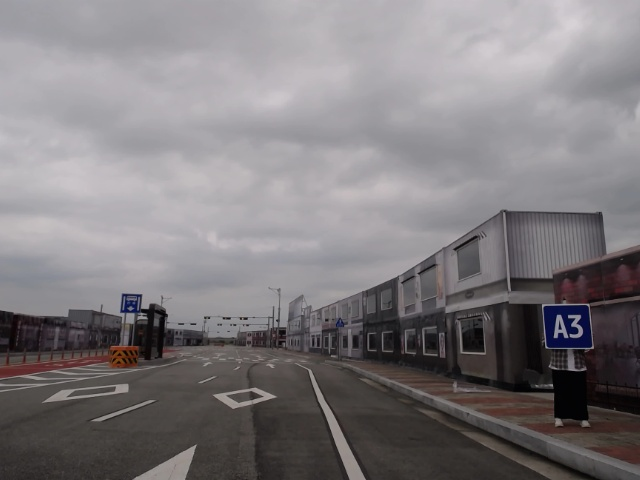delivery_a3: (542, 304, 594, 349)
